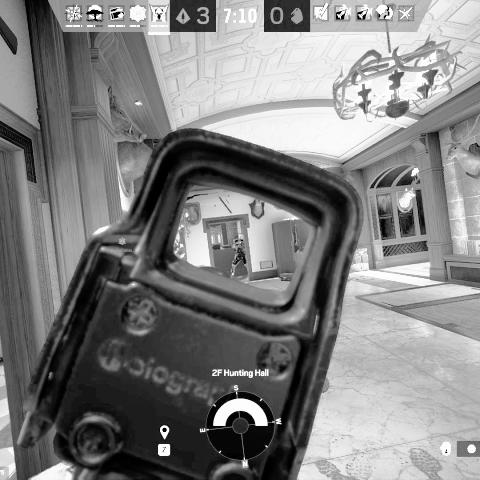Character: (230, 238, 246, 279)
Friend_label: (110, 237, 134, 253)
Head: (238, 238, 244, 244)
